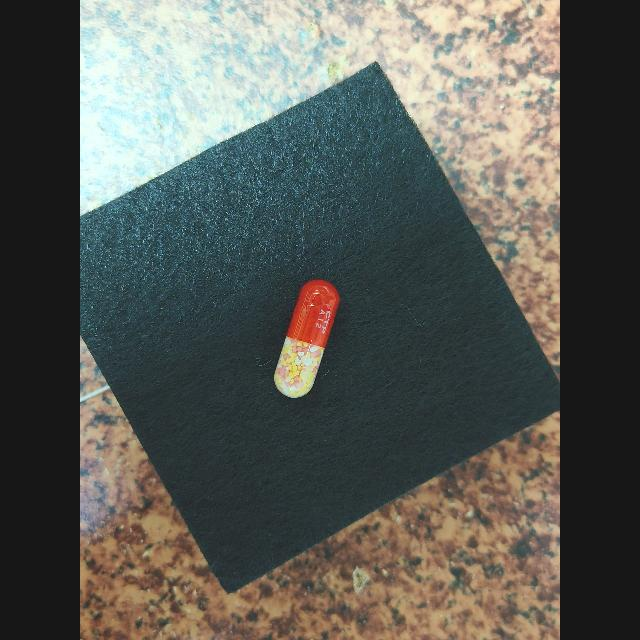Intact Capsule: (274, 279, 340, 398)
